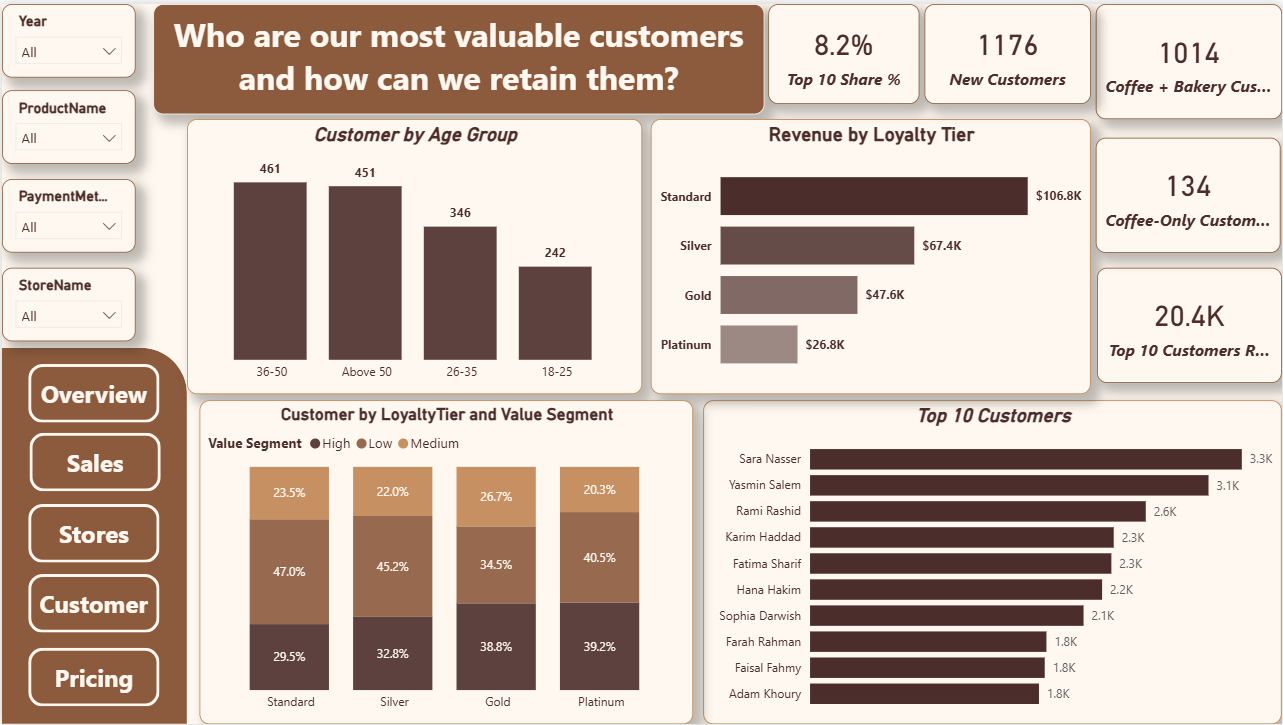

What the dashboard file says about the page in this screenshot:
{"tool":"powerbi","page":{"name":"Customer Insights","canvas":[1280,720],"ordinal":3},"visuals":[{"type":"slicer","fields":{"Values":["Calendar.Year"]},"box":[0,0,133.8,73.8],"z":0},{"type":"textbox","box":[151.2,0,611.2,110],"z":1000},{"type":"shape","box":[0,343.8,185,376.2],"z":2000},{"type":"clusteredBarChart","title":"Top 10 Customers","fields":{"Category":["Customers.CustomerName"],"Y":["_Measures.Revenue"]},"box":[701.2,396.2,578.8,323.8],"z":3000},{"type":"slicer","fields":{"Values":["Products.ProductName"]},"box":[0,86.2,133.8,73.8],"z":4000},{"type":"slicer","fields":{"Values":["Sales.PaymentMethod"]},"box":[0,175,133.8,73.8],"z":5000},{"type":"slicer","fields":{"Values":["Stores.StoreName"]},"box":[0,263.8,133.8,73.8],"z":6000},{"type":"actionButton","title":"Revenue","box":[26.2,360,131.2,58.8],"z":7000},{"type":"clusteredColumnChart","title":"Customer by Age Group","fields":{"Category":["Customers.Age Group"],"Y":["CountNonNull(Customers.CustomerID)"]},"box":[185,115,455,275],"z":9000},{"type":"actionButton","title":"Revenue","box":[27.5,428.8,131.2,58.8],"z":10000},{"type":"actionButton","title":"Revenue","box":[26.2,500,131.2,58.8],"z":11000},{"type":"actionButton","title":"Revenue","box":[26.2,570,131.2,58.8],"z":12000},{"type":"actionButton","title":"Revenue","box":[26.2,643.8,131.2,58.8],"z":13000},{"type":"clusteredBarChart","title":"Revenue by Loyalty Tier","fields":{"Y":["_Measures.Revenue"],"Category":["Customers.LoyaltyTier"]},"box":[648.8,115,440,275],"z":14000},{"type":"card","fields":{"Values":["_Measures.Top 10 Customers Revenue"]},"box":[1095,263.8,185,115],"z":15000},{"type":"card","fields":{"Values":["_Measures.Coffee-Only Customers"]},"box":[1093.8,133.8,185,115],"z":16000},{"type":"card","fields":{"Values":["_Measures.Coffee + Bakery Customers"]},"box":[1093.8,0,186.2,115],"z":17000},{"type":"card","fields":{"Values":["_Measures.Top 10 Share %"]},"box":[766.2,0,151.2,100],"z":18000},{"type":"card","fields":{"Values":["_Measures.New Customers"]},"box":[922.5,0,166.2,100],"z":19000},{"type":"hundredPercentStackedColumnChart","title":"Customer by LoyaltyTier and Value Segment","fields":{"Category":["Customers.LoyaltyTier"],"Series":["Customers.Value Segment"],"Y":["Count(Customers.CustomerID)"]},"box":[197.5,396.2,493.8,323.8],"z":20000}]}

Visuals, with their boxes in screenshot pixels (x1, y1, x2, y2), scaled from the page's 1280x720 canvas onto the 1283x725 screenshot:
slicer - Calendar.Year: crop(0, 0, 134, 74)
textbox: crop(152, 0, 764, 111)
shape: crop(0, 346, 185, 724)
"Top 10 Customers" clusteredBarChart: crop(703, 399, 1282, 724)
slicer - Products.ProductName: crop(0, 87, 134, 161)
slicer - Sales.PaymentMethod: crop(0, 176, 134, 251)
slicer - Stores.StoreName: crop(0, 266, 134, 340)
"Revenue" actionButton: crop(26, 362, 158, 422)
"Customer by Age Group" clusteredColumnChart: crop(185, 116, 642, 393)
"Revenue" actionButton: crop(28, 432, 159, 491)
"Revenue" actionButton: crop(26, 503, 158, 563)
"Revenue" actionButton: crop(26, 574, 158, 633)
"Revenue" actionButton: crop(26, 648, 158, 707)
"Revenue by Loyalty Tier" clusteredBarChart: crop(650, 116, 1091, 393)
card - _Measures.Top 10 Customers Revenue: crop(1098, 266, 1282, 381)
card - _Measures.Coffee-Only Customers: crop(1096, 135, 1282, 251)
card - _Measures.Coffee + Bakery Customers: crop(1096, 0, 1282, 116)
card - _Measures.Top 10 Share %: crop(768, 0, 920, 101)
card - _Measures.New Customers: crop(925, 0, 1091, 101)
"Customer by LoyaltyTier and Value Segment" hundredPercentStackedColumnChart: crop(198, 399, 693, 724)
